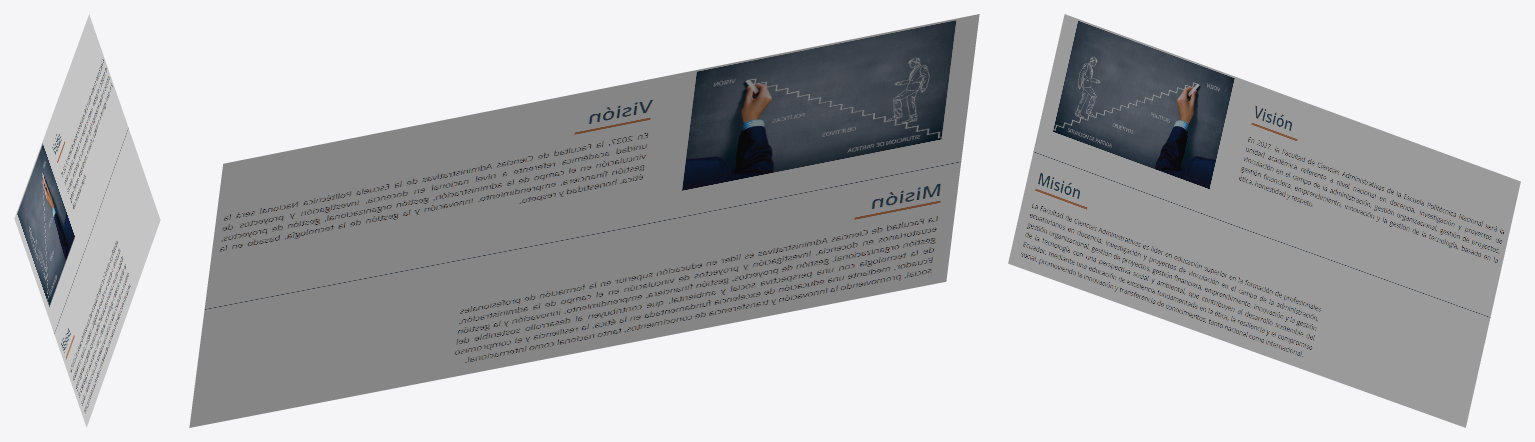
File: ciencias_administrativas.glb
3 renders of one model, left to right at view 1: azimuth 30°, elevation 25°; view 2: azimuth 150°, elevation 25°; view 3: azimuth 270°, elevation 25°, orthographic. The views are drawn at different scales.
Parts seen in each view (by area): view 1: Cube; view 2: Cube; view 3: Cube.
Boxes of the visible parts, x1,y1,x2,y2 form: Cube: (14,14,160,427); Cube: (189,14,979,427); Cube: (1008,14,1520,427).
Bounding box in the file's own units: 3.26 × 2.03 × 3.99.
Materials: 1 (1 with a texture image).
